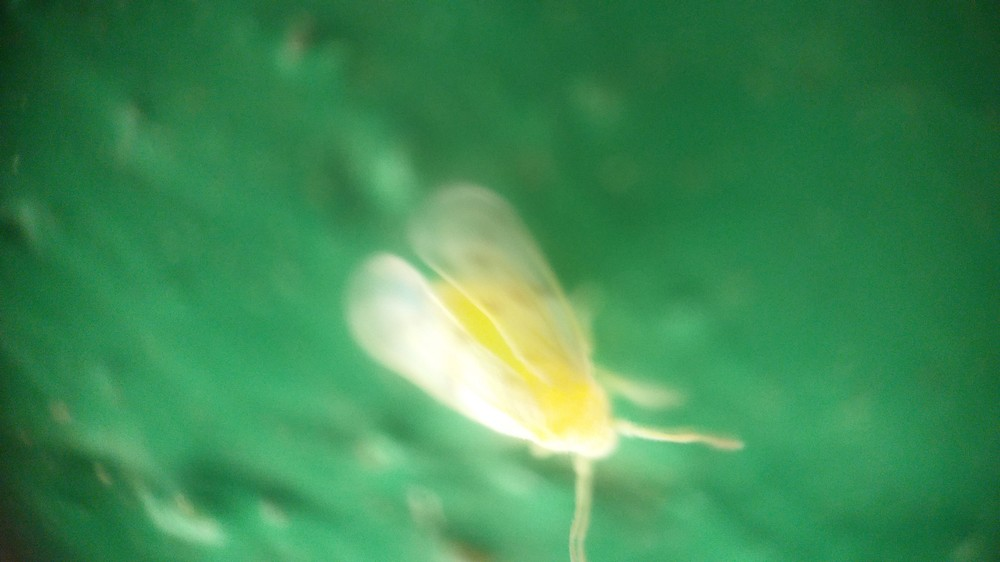Mosca Blanca: (339, 176, 777, 559)
